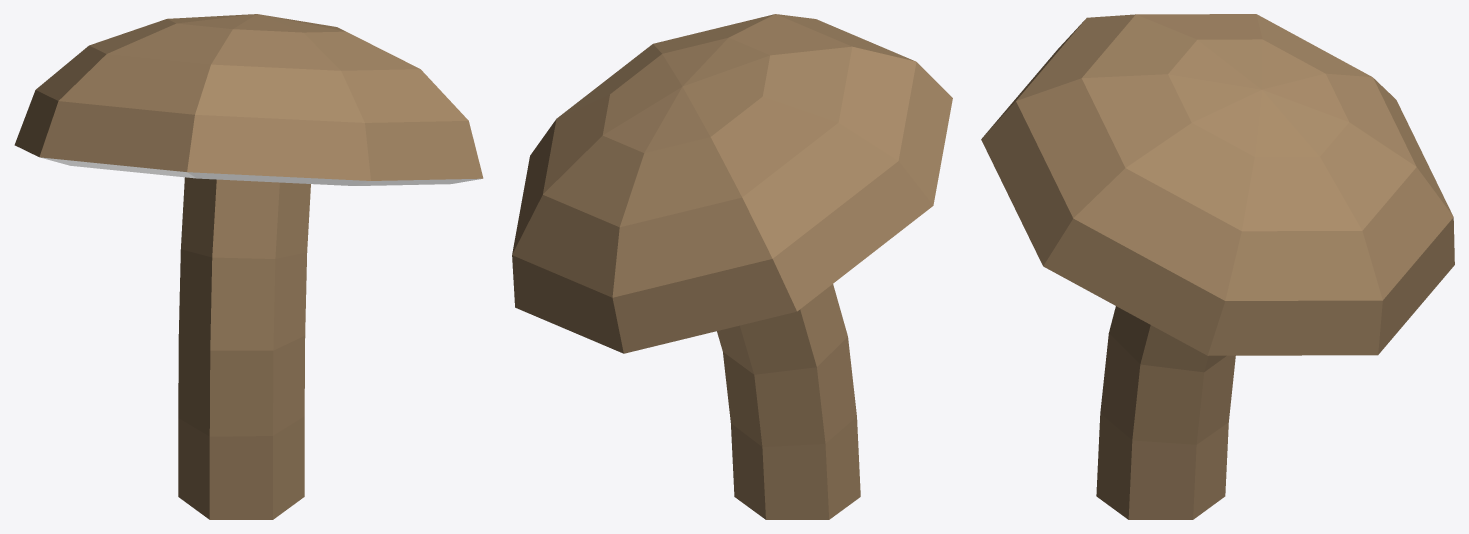
File: Mushroom_Brown_1.fbx
3 renders of one model, left to right at view 1: azimuth 30°, elevation 25°; view 2: azimuth 150°, elevation 25°; view 3: azimuth 270°, elevation 25°, orthographic. The views are drawn at different scales.
Visible parts, largest first — view 1: Cylinder.002; view 2: Cylinder.002; view 3: Cylinder.002.
Boxes of the visible parts, x1,y1,x2,y2 form: Cylinder.002: [14, 14, 483, 519]; Cylinder.002: [512, 14, 952, 519]; Cylinder.002: [981, 14, 1454, 519].
Size of the model in its own units: 13.72 by 14.49 by 13.49.
